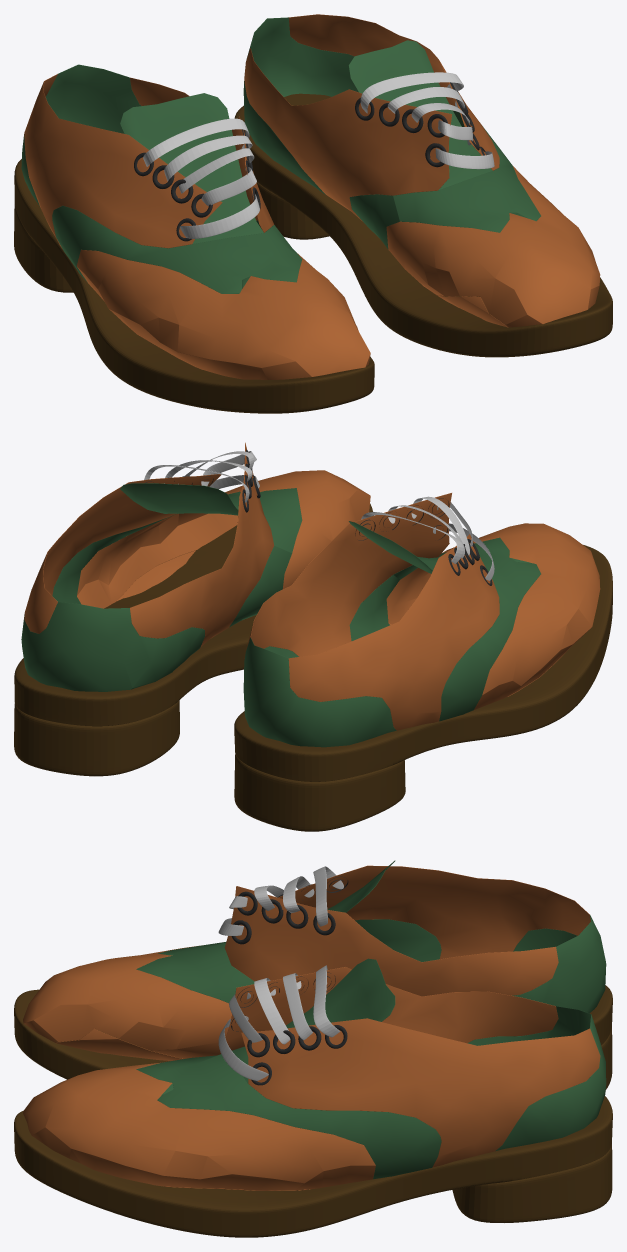
3 renders of one model, top to bottom at view 1: azimuth 30°, elevation 25°; view 2: azimuth 150°, elevation 25°; view 3: azimuth 270°, elevation 25°, orthographic.
Visible parts, largest first — view 1: zapato2.001, zapato2, Plane, Plane.011, Plane.007, Plane.004, Plane.006, Plane.008, Plane.003, Plane.010, Plane.009, Plane.005; view 2: zapato2.001, zapato2, Plane.011, Plane, Plane.010; view 3: zapato2, zapato2.001, Plane, Plane.011, Plane.001, Plane.003, Plane.004, Plane.007, Plane.005, Plane.008, Plane.002.
Part boxes in pixels (x1,y1,x2,y2): zapato2.001: (21, 64, 370, 379); zapato2: (243, 14, 600, 327); Plane: (234, 93, 612, 357); Plane.011: (14, 159, 374, 413); Plane.007: (143, 118, 249, 166); Plane.004: (360, 72, 463, 113); Plane.006: (180, 194, 259, 238); Plane.008: (164, 135, 252, 181); Plane.003: (387, 87, 464, 113); Plane.010: (179, 148, 254, 193); Plane.009: (201, 167, 256, 206); Plane.005: (435, 148, 494, 169); zapato2.001: (243, 493, 600, 747); zapato2: (21, 442, 370, 691); Plane.011: (234, 545, 612, 831); Plane: (14, 503, 373, 776); Plane.010: (411, 496, 469, 555); zapato2: (23, 958, 606, 1190); zapato2.001: (23, 860, 606, 1060); Plane: (14, 1096, 612, 1237); Plane.011: (14, 985, 612, 1089); Plane.001: (254, 978, 290, 1044); Plane.003: (283, 973, 312, 1040); Plane.004: (313, 965, 340, 1037); Plane.007: (313, 866, 343, 926); Plane.005: (218, 1016, 268, 1080); Plane.008: (283, 876, 314, 913); Plane.002: (229, 992, 262, 1042).
Size of the model in its own units: 390 by 176 by 447.
